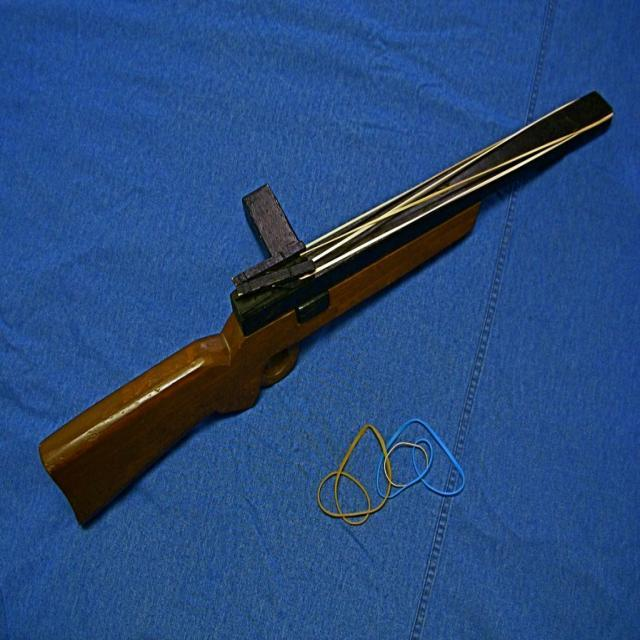weapon: (37, 91, 615, 528)
